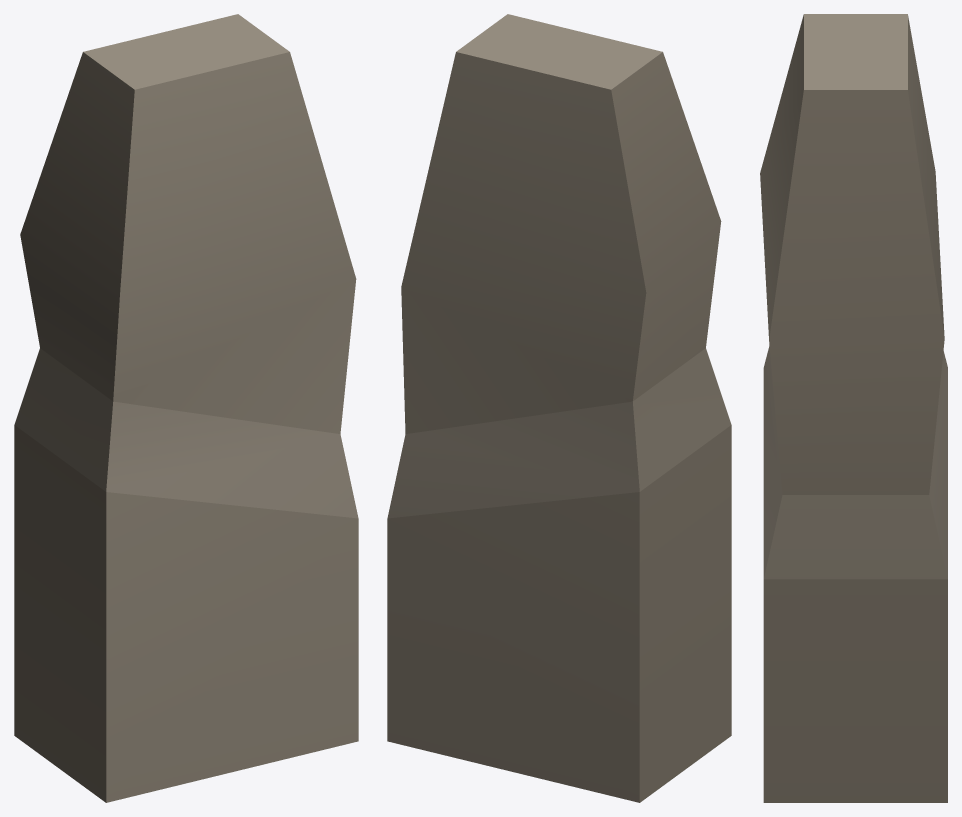
Rendered from ManmadeMore_SF_Env_StandingStone_02.fbx.
3 renders of one model, left to right at view 1: azimuth 30°, elevation 25°; view 2: azimuth 150°, elevation 25°; view 3: azimuth 270°, elevation 25°, orthographic.
Parts seen in each view (by area): view 1: SF_Env_StandingStone_02; view 2: SF_Env_StandingStone_02; view 3: SF_Env_StandingStone_02.
Part boxes in pixels (x1,y1,x2,y2): SF_Env_StandingStone_02: (14,14,358,802); SF_Env_StandingStone_02: (387,14,731,802); SF_Env_StandingStone_02: (760,14,947,802).
Bounding box in the file's own units: 173 × 448 × 111.
